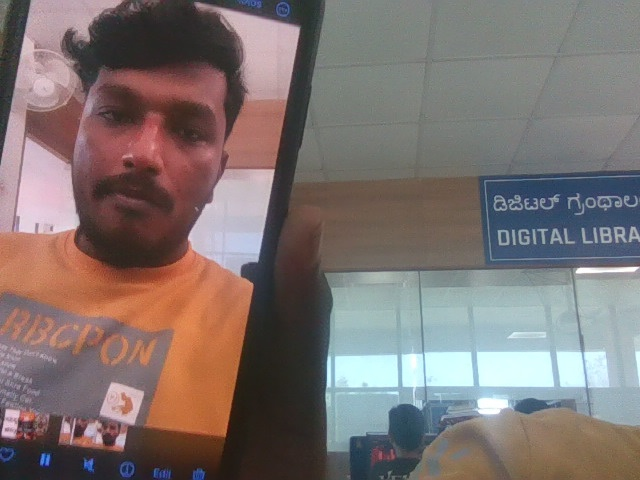fake: (49, 0, 250, 285)
